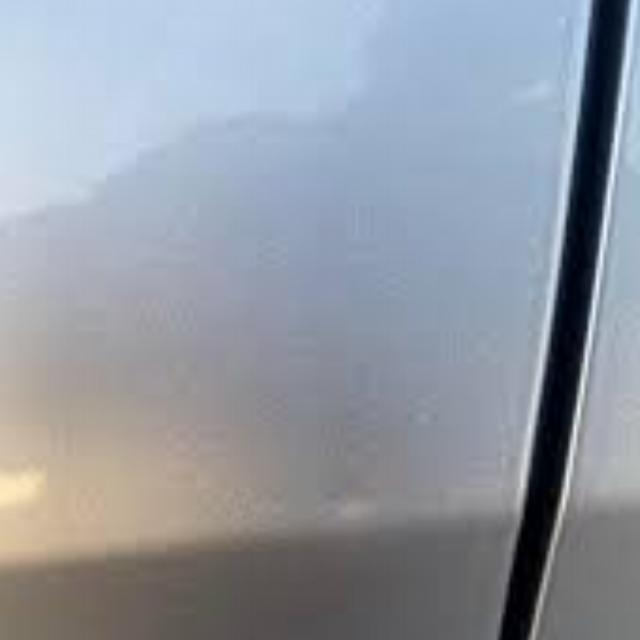dents: (308, 461, 397, 542)
